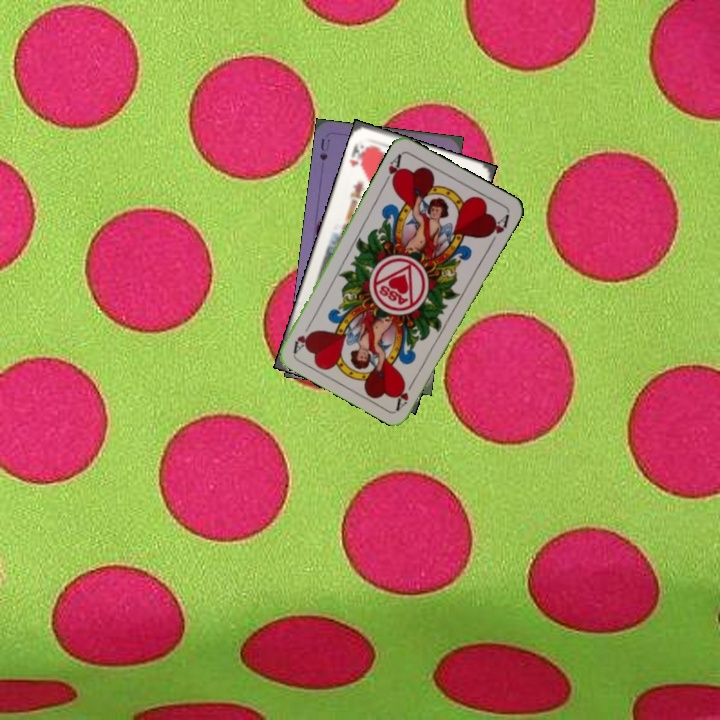HA: (392, 374, 418, 412), (380, 150, 404, 188)
HK: (345, 139, 370, 169)
SU: (315, 134, 333, 163)
